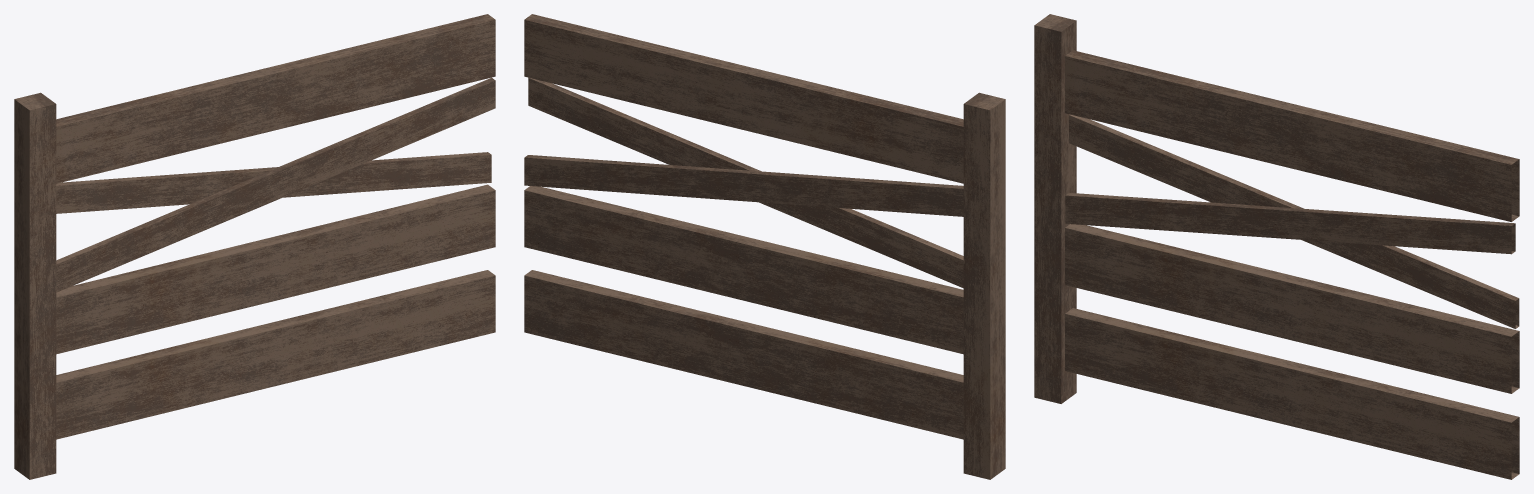
Rendered from WoodenOpen.fbx.
The picture shows the model from 3 angles, left to right: view 1: azimuth 30°, elevation 25°; view 2: azimuth 150°, elevation 25°; view 3: azimuth 330°, elevation 25°; orthographic projection.
Visible parts, largest first — view 1: Cube.007; view 2: Cube.007; view 3: Cube.007.
Boxes of the visible parts, bbox=[...] form: Cube.007: bbox=[14, 14, 495, 479]; Cube.007: bbox=[524, 14, 1005, 479]; Cube.007: bbox=[1034, 14, 1519, 479].
Size of the model in its own units: 173 by 130 by 9.8.
